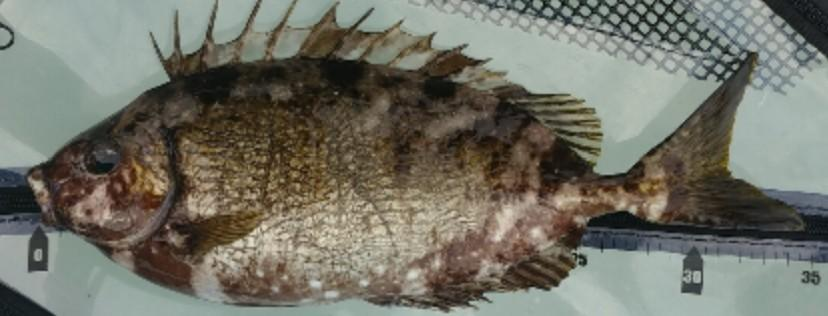fish: (28, 1, 803, 310)
